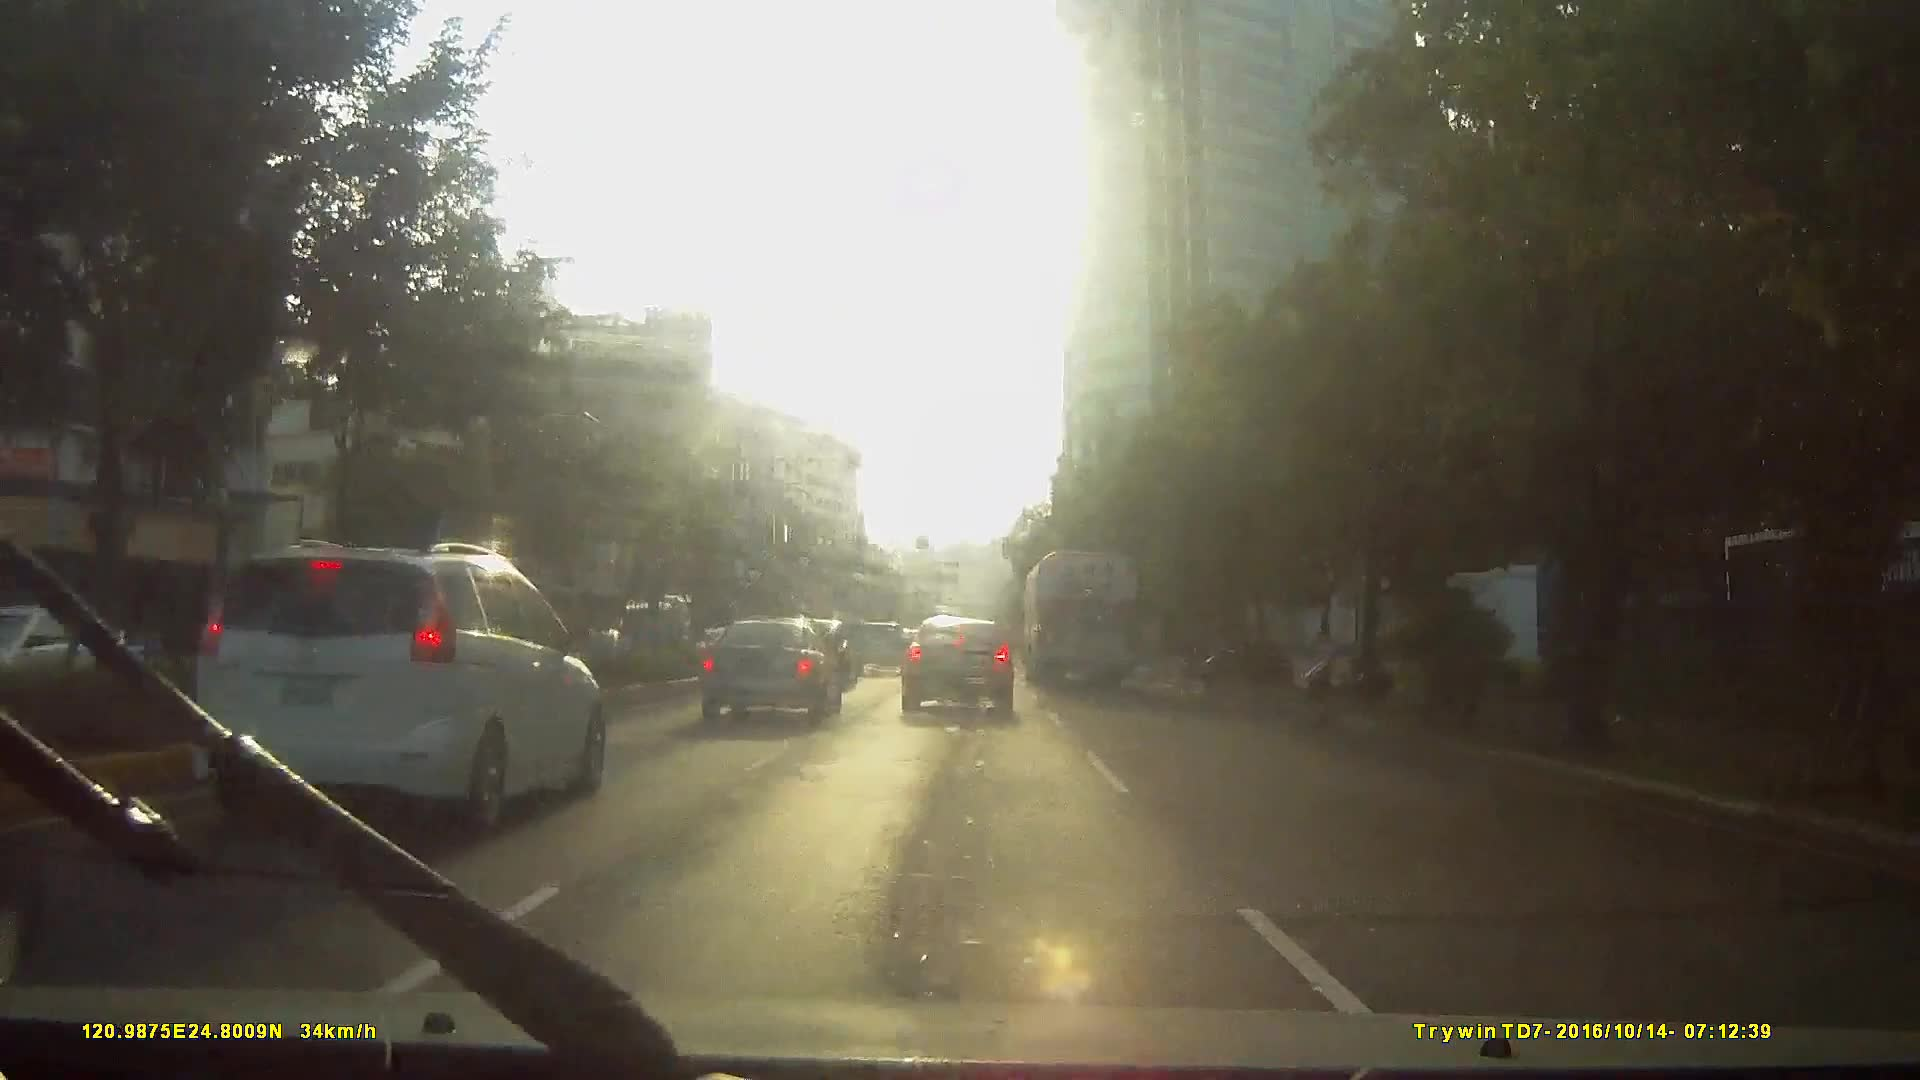vehicle: (167, 538, 617, 844), (251, 556, 684, 868), (1019, 543, 1141, 691), (690, 616, 841, 725), (897, 611, 1015, 723), (601, 589, 684, 665), (848, 617, 909, 676)
